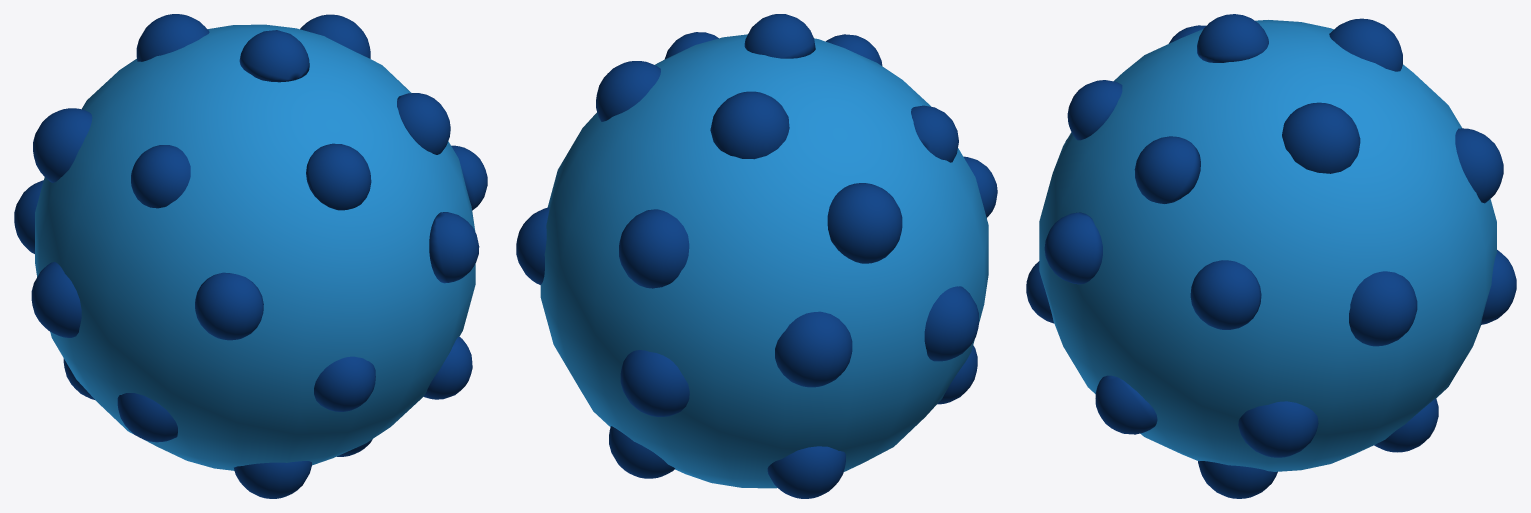
File: active.Ball-01.glb
The picture shows the model from 3 angles, left to right: view 1: azimuth 30°, elevation 25°; view 2: azimuth 150°, elevation 25°; view 3: azimuth 270°, elevation 25°; orthographic projection.
Parts seen in each view (by area): view 1: active.Ball 01; view 2: active.Ball 01; view 3: active.Ball 01.
Part boxes in pixels (x1,y1,x2,y2): active.Ball 01: (14, 14, 487, 498); active.Ball 01: (516, 14, 997, 498); active.Ball 01: (1026, 14, 1516, 498).
Bounding box in the file's own units: 0.7143 × 0.7143 × 0.7143.
